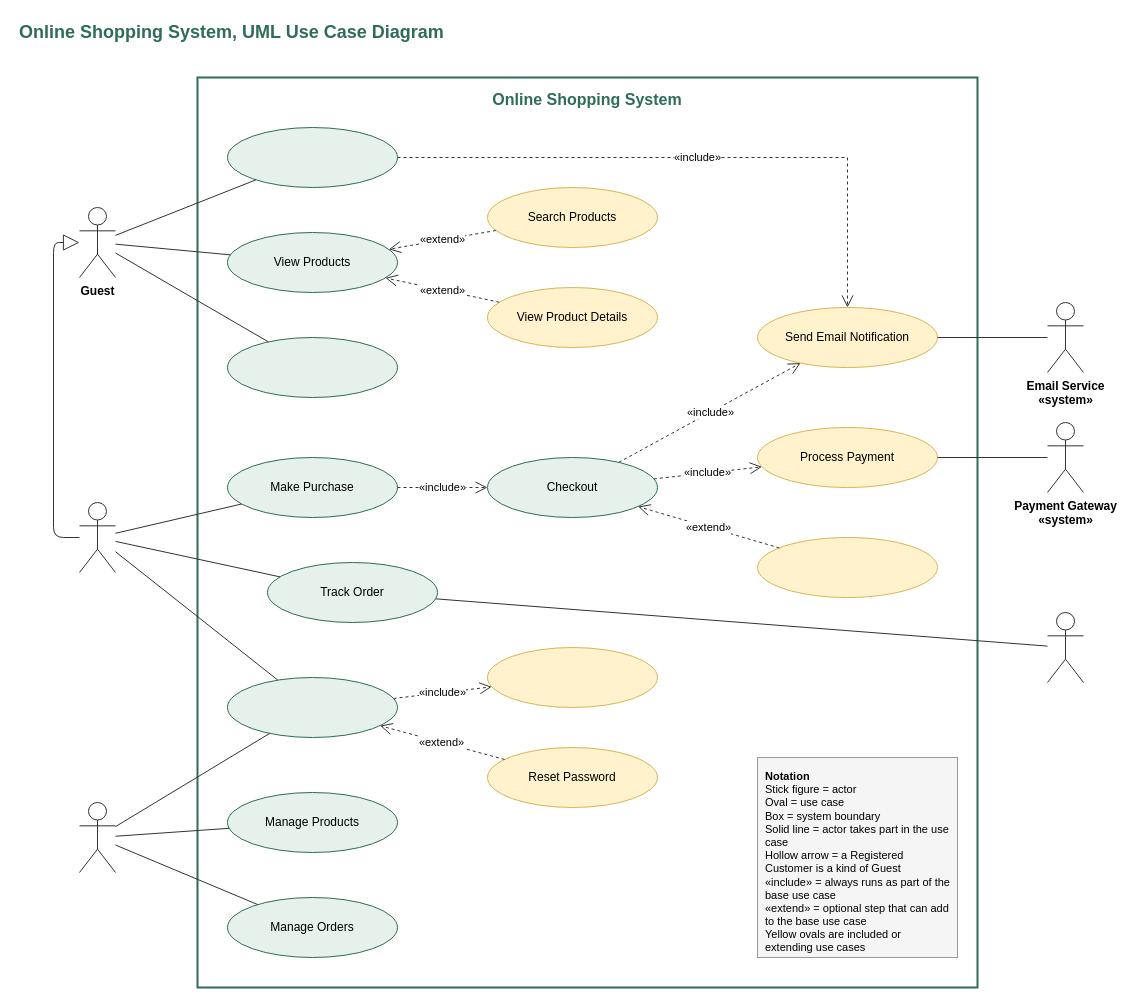
Some shapes in this 1134 by 1005 pixel diagram are drawn without their labels. Each missing label, with the box of its shape:
Add Items to Cart: (226, 336, 398, 398)
Administrator: (78, 802, 116, 872)
Apply Coupon Code: (756, 536, 938, 598)
Log In: (226, 676, 398, 738)
Register New Account: (226, 126, 398, 188)
Registered Customer: (78, 502, 116, 572)
Shipping Provider «system»: (1046, 612, 1084, 682)
Verify Credentials: (486, 646, 658, 708)
